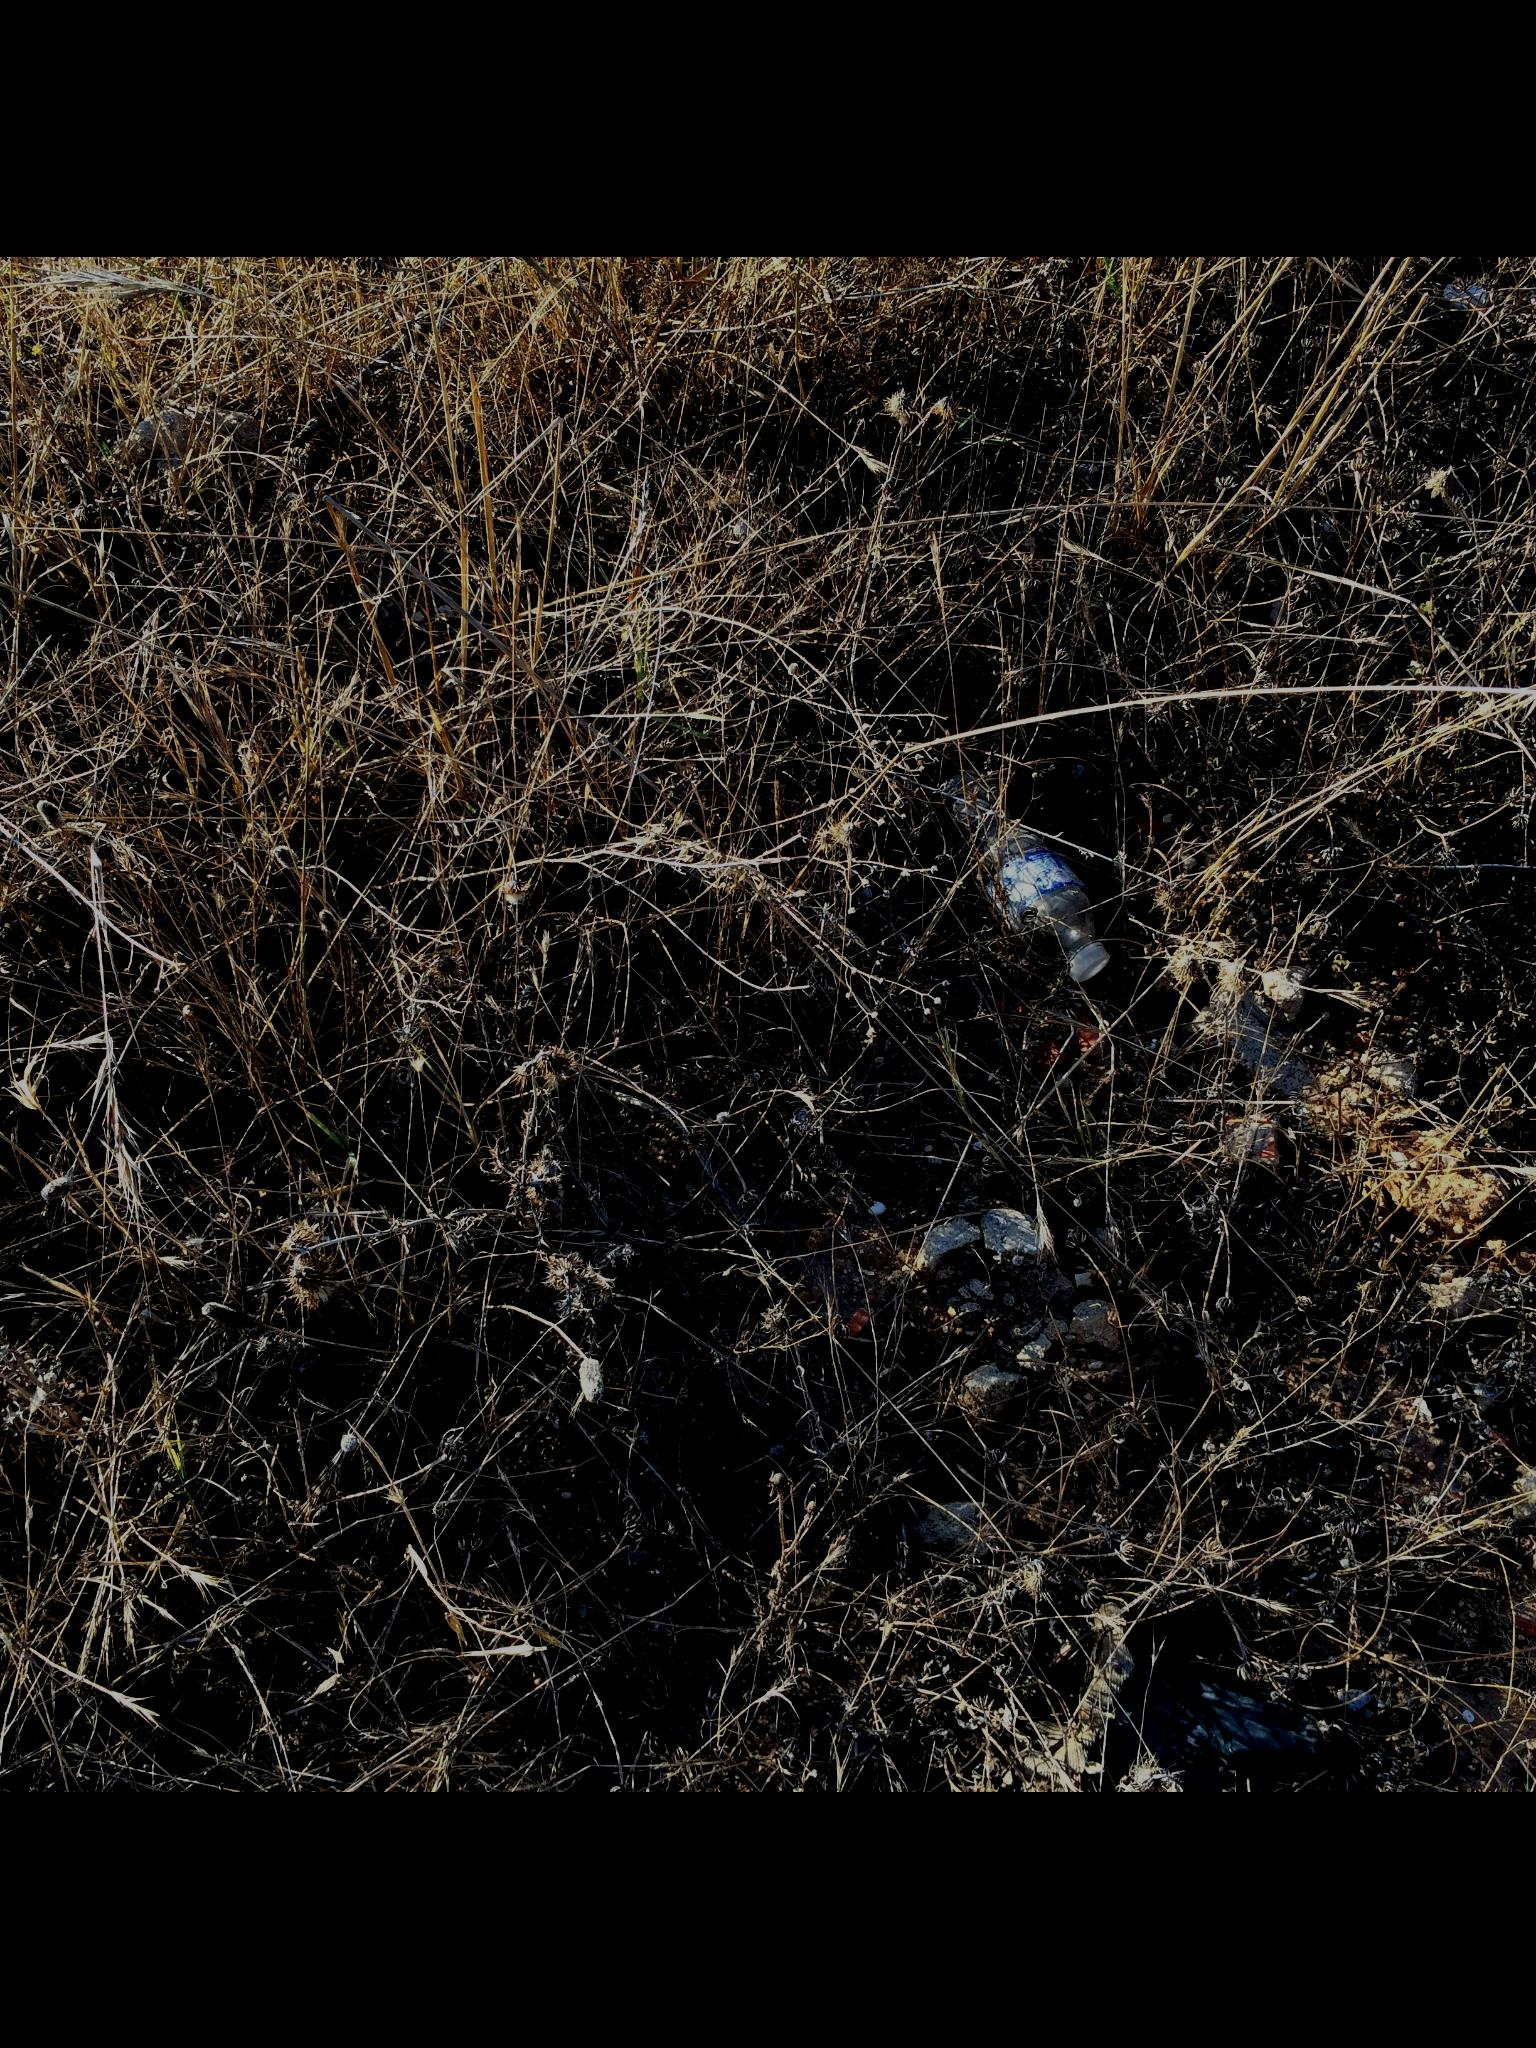bottle: (936, 734, 1141, 979)
